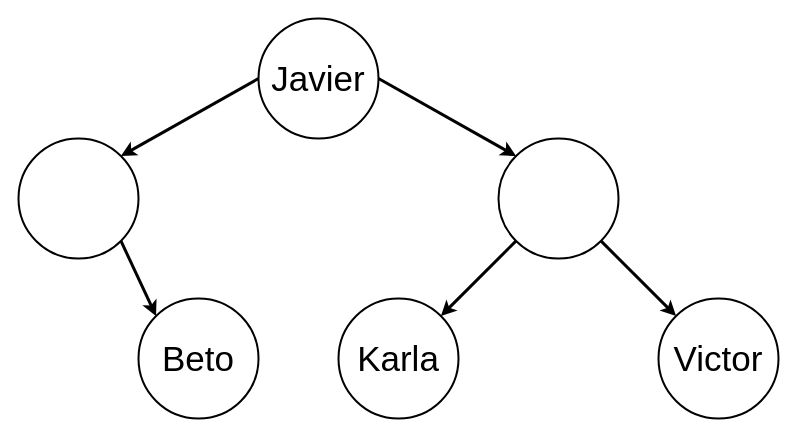
The diagram is 796 pixels wide and 436 high, and some of its shapes have lost their labels. Here are the shapes that lost their labels. From the top down, the box of each, then its label:
(17, 137, 139, 259): Alejandro
(497, 137, 619, 259): Sergio
